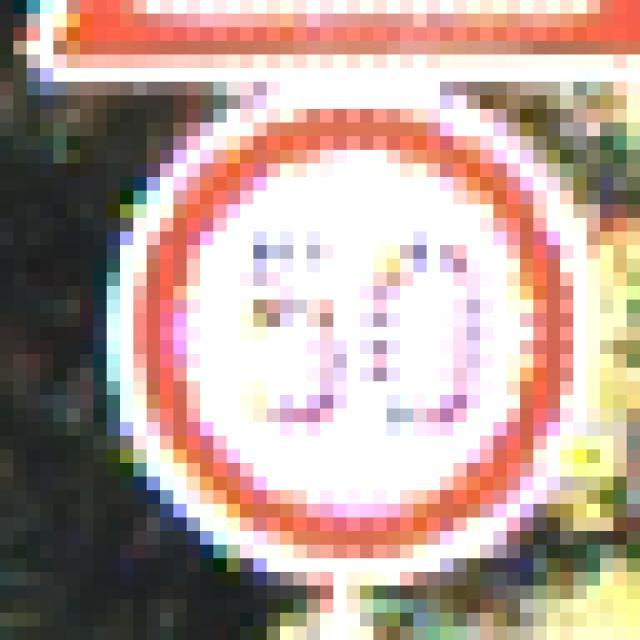Ograniczenie predkosci do 50: (127, 104, 583, 556)
